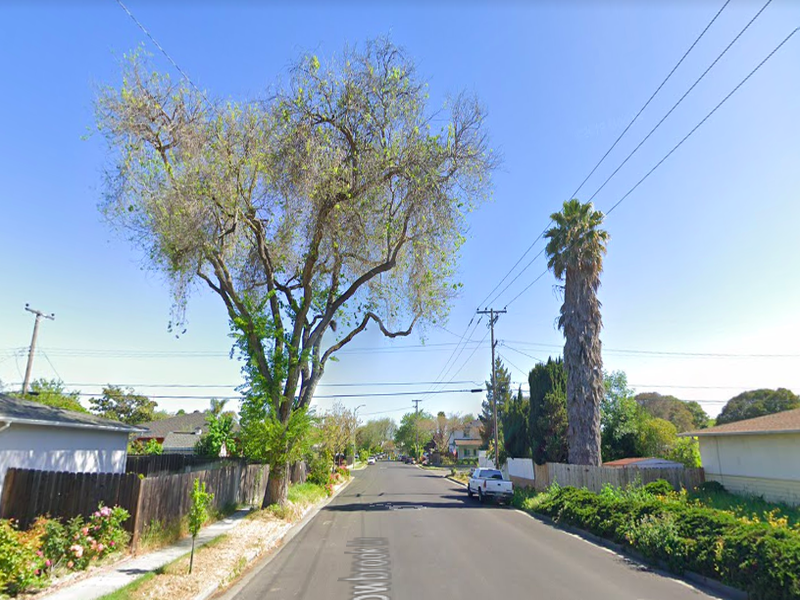tree: (81, 35, 507, 510), (543, 197, 612, 489)
